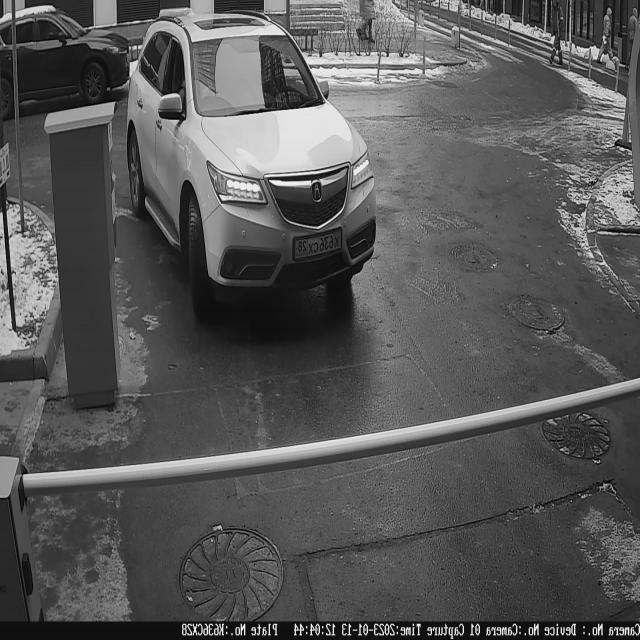car-plate-numbers: (294, 230, 344, 263)
